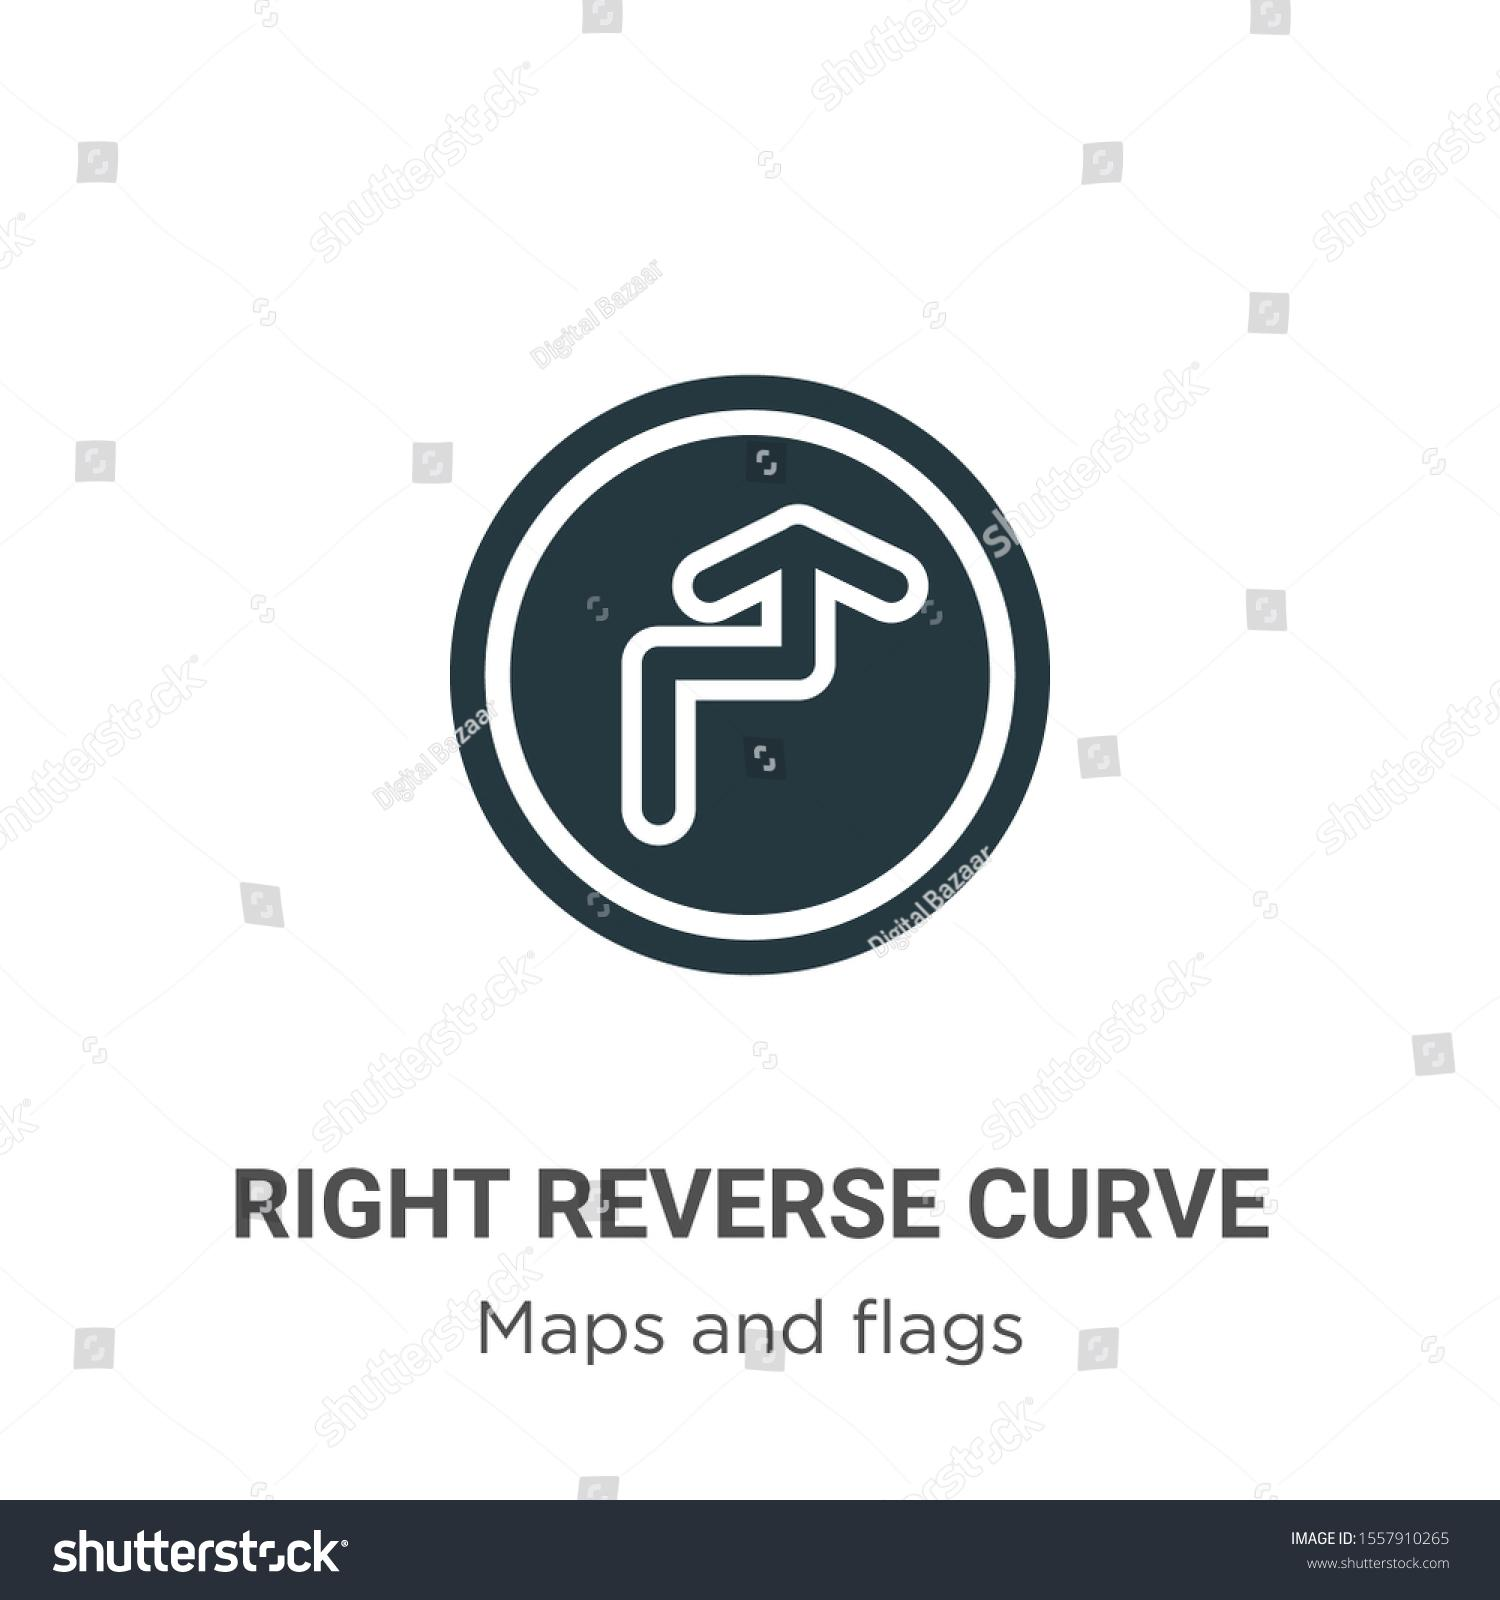Right Reverse Bend: (173, 307, 1325, 1386), (427, 371, 1066, 994)
